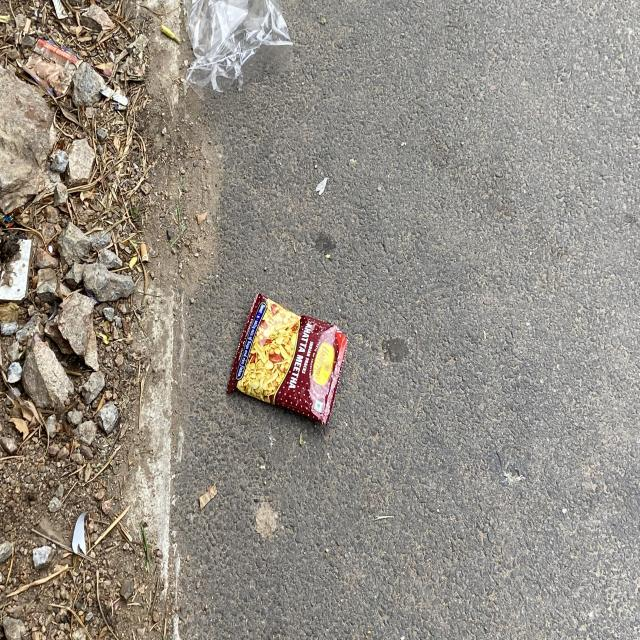plastic: (184, 0, 292, 96)
wrapper: (227, 294, 345, 422)
